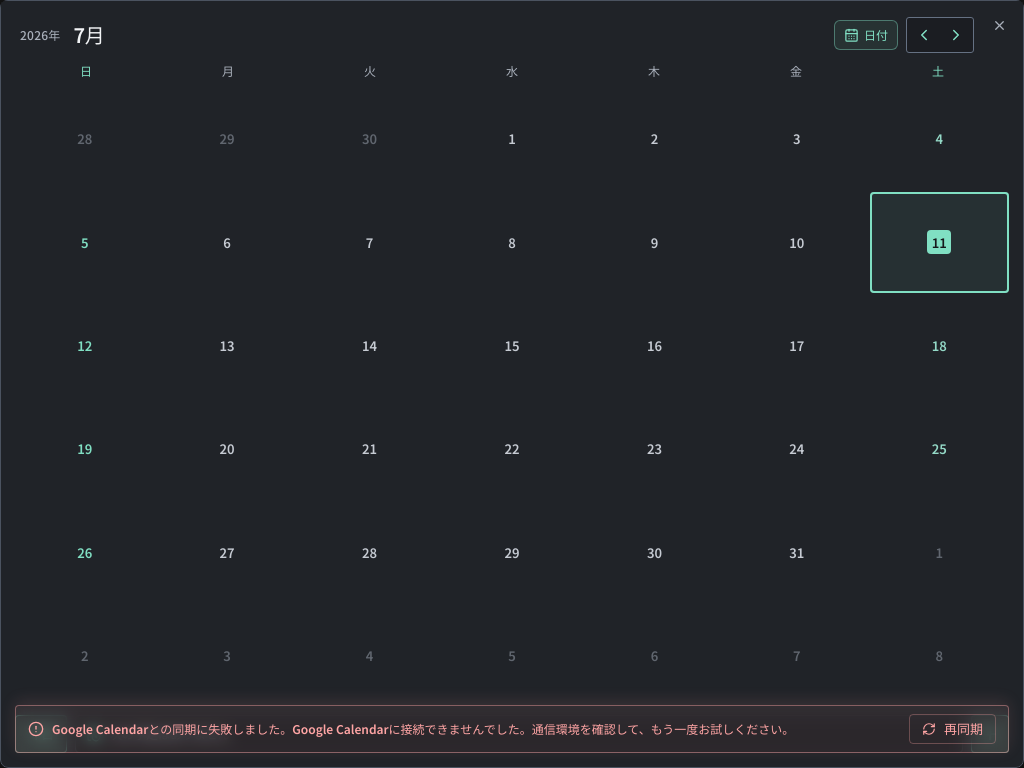
Scenario: CalendarOverlay window coordination › shows a retry action when Google Calendar sync fails
expect the message shows "Google Calendarとの同期に失敗しました。Google Calendarに接続できませんでした。通信環境を確認して、もう一度お試しください。": met, box left=15, top=705, right=1009, bottom=753
Step 1. Click the button "再同期" → {"x": 952, "y": 729}, box left=909, top=714, right=996, bottom=744
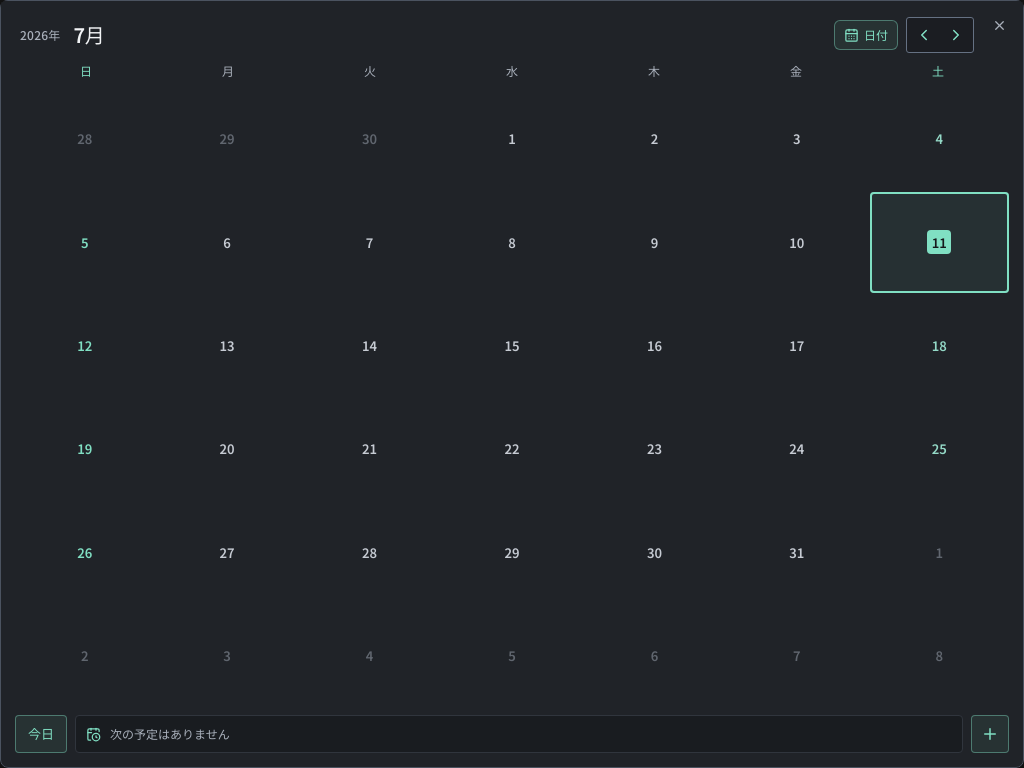
expect the message is gone: met
